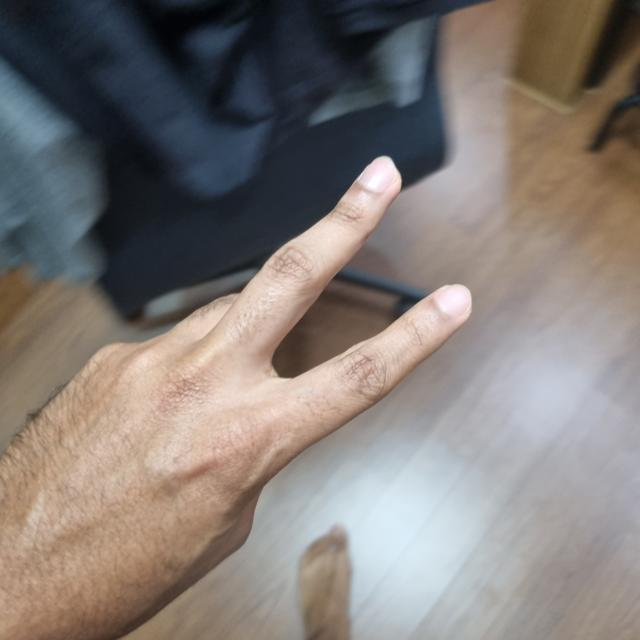Scissors: (2, 160, 464, 634)
